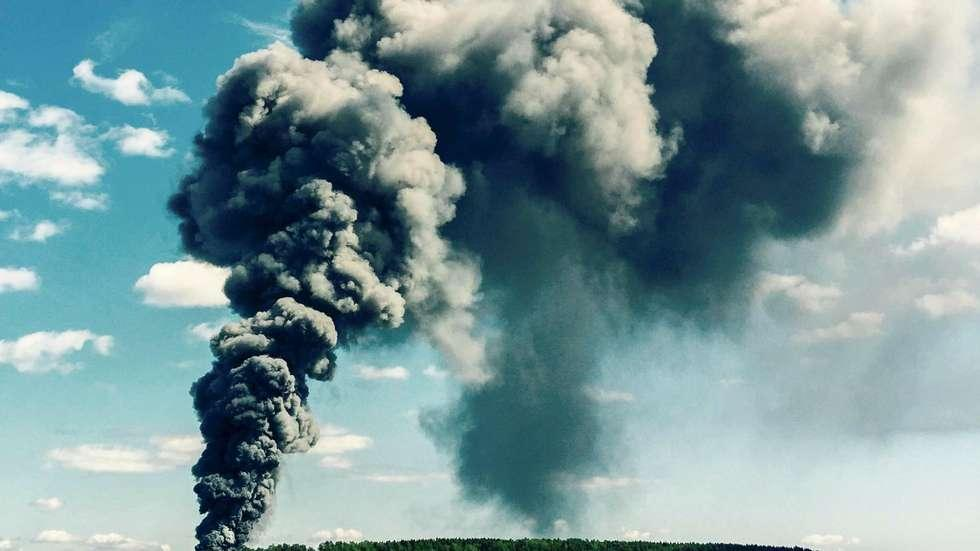smoke: (164, 44, 467, 551), (434, 4, 670, 535)
